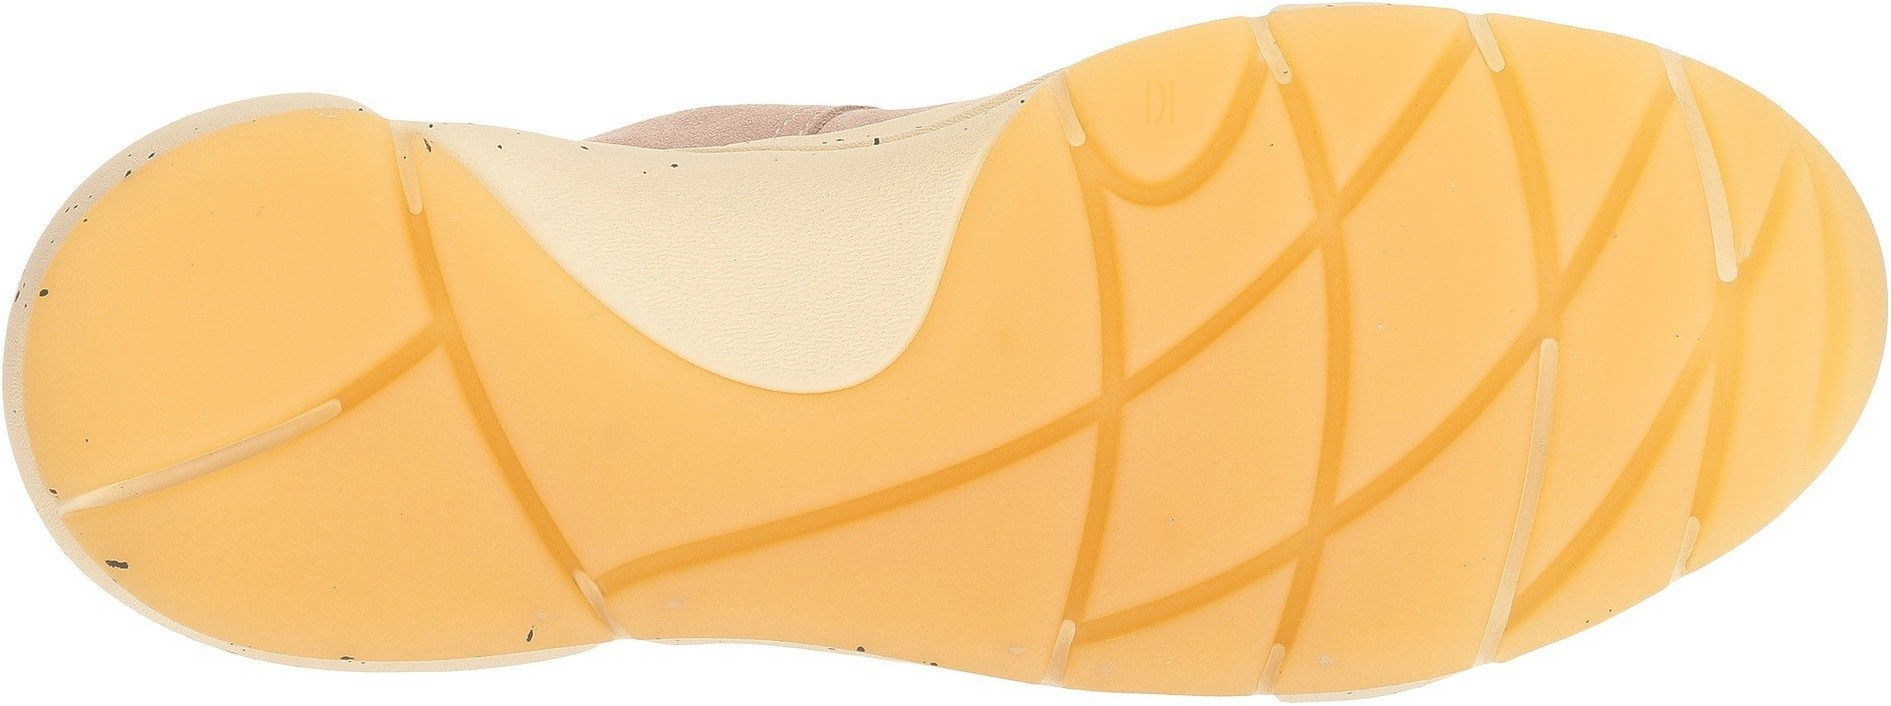other: (109, 191, 358, 405), (286, 453, 488, 628), (1128, 386, 1296, 564), (558, 370, 720, 531), (1369, 177, 1529, 328), (889, 508, 1049, 658), (1360, 501, 1488, 628)
